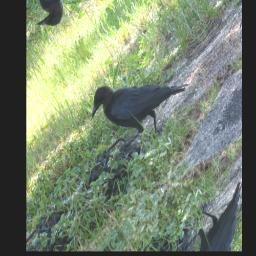Crow: (83, 25, 196, 173)
